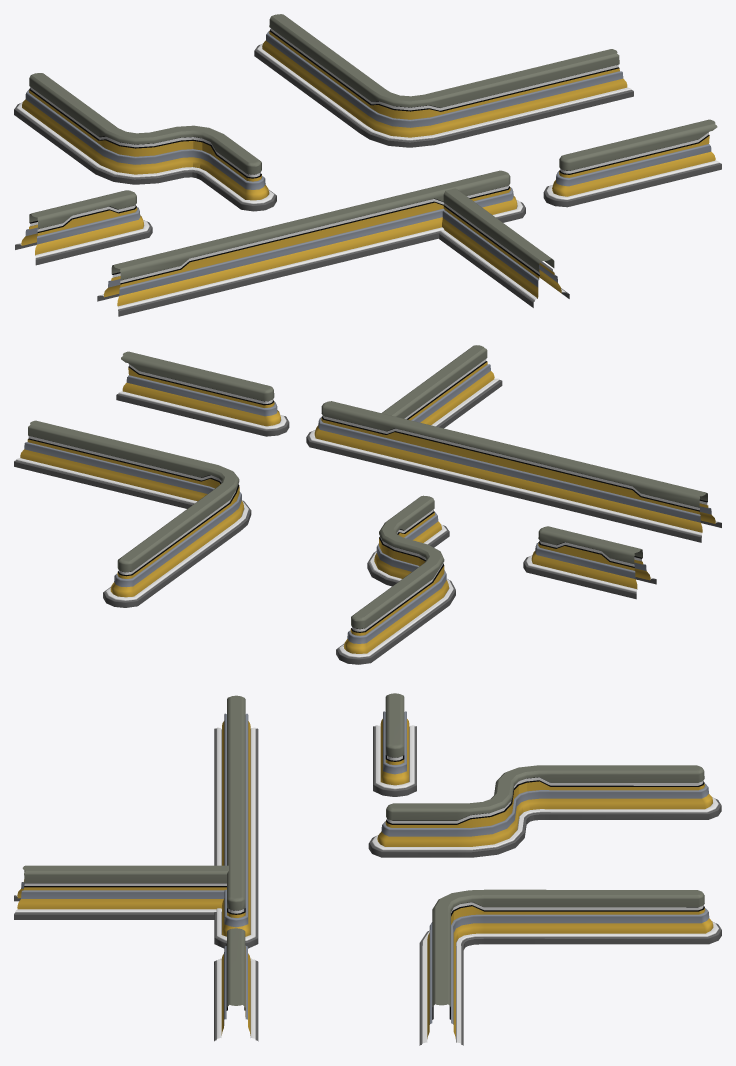
Rendered from Level36_Small_walls.fbx.
3 views of the same model, one above another, from view 1: azimuth 30°, elevation 25°; view 2: azimuth 150°, elevation 25°; view 3: azimuth 270°, elevation 25° (orthographic). The views are drawn at different scales.
Visible parts, largest first — view 1: Small_wall_L53, Small_wallv1_32, Small_wall_L57, Small_wallv1_23, Small_wall_L54, Small_wallv1_20; view 2: Small_wallv1_32, Small_wall_L53, Small_wall_L57, Small_wallv1_23, Small_wallv1_20, Small_wall_L54; view 3: Small_wall_L53, Small_wall_L57, Small_wall_L54, Small_wallv1_32, Small_wallv1_20, Small_wallv1_23.
Part boxes in pixels (bbox=[...]): Small_wall_L53: bbox=[254, 14, 633, 147]; Small_wallv1_32: bbox=[97, 170, 525, 316]; Small_wall_L57: bbox=[14, 73, 276, 211]; Small_wallv1_23: bbox=[543, 119, 721, 207]; Small_wall_L54: bbox=[439, 188, 569, 307]; Small_wallv1_20: bbox=[15, 190, 152, 265]; Small_wallv1_32: bbox=[306, 401, 721, 542]; Small_wall_L53: bbox=[14, 420, 251, 607]; Small_wall_L57: bbox=[336, 495, 455, 664]; Small_wallv1_23: bbox=[116, 351, 289, 436]; Small_wallv1_20: bbox=[523, 526, 656, 599]; Small_wall_L54: bbox=[381, 345, 502, 428]; Small_wall_L53: bbox=[419, 889, 721, 1045]; Small_wall_L57: bbox=[368, 765, 721, 857]; Small_wall_L54: bbox=[14, 865, 228, 919]; Small_wallv1_32: bbox=[214, 695, 258, 948]; Small_wallv1_20: bbox=[373, 693, 416, 796]; Small_wallv1_23: bbox=[214, 928, 258, 1041].
Size of the model in its own units: 592 by 38.48 by 552.
